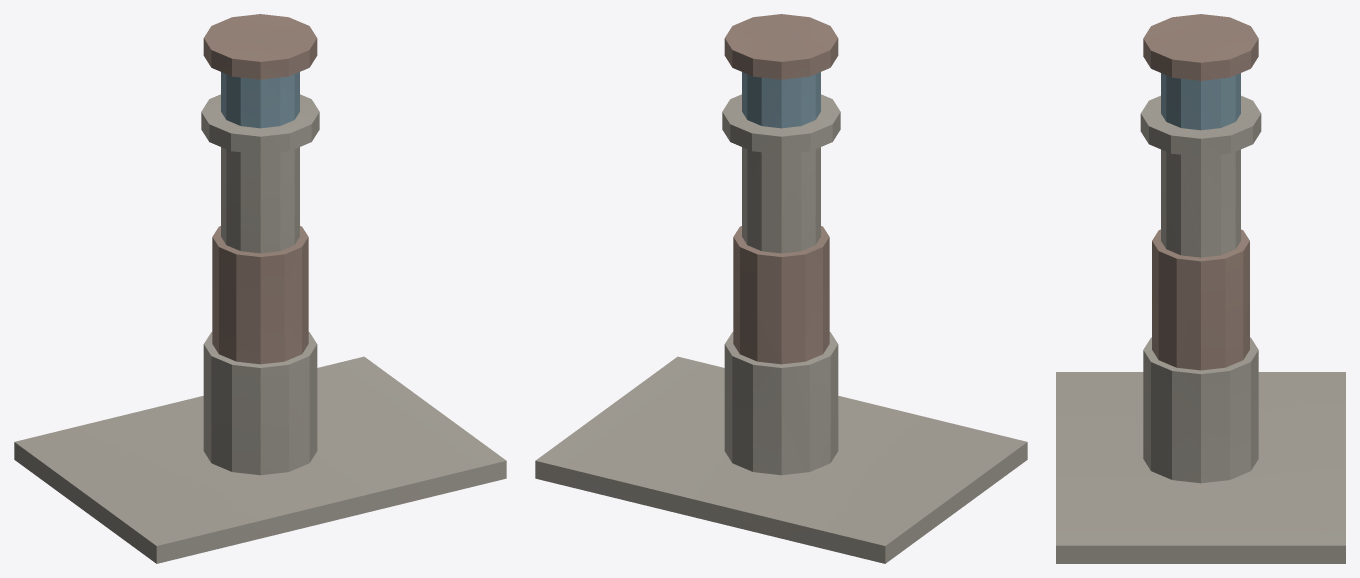
The model's file is lighthouse-07.glb.
The picture shows the model from 3 angles, left to right: view 1: azimuth 30°, elevation 25°; view 2: azimuth 150°, elevation 25°; view 3: azimuth 270°, elevation 25°; orthographic projection.
Visible parts, largest first — view 1: world; view 2: world; view 3: world.
Part boxes in pixels (left/top/right/bottom): world: left=14, top=14, right=506, bottom=563; world: left=535, top=14, right=1027, bottom=563; world: left=1056, top=14, right=1345, bottom=563.
Bounding box in the file's own units: 1.64 × 1.93 × 1.15.
